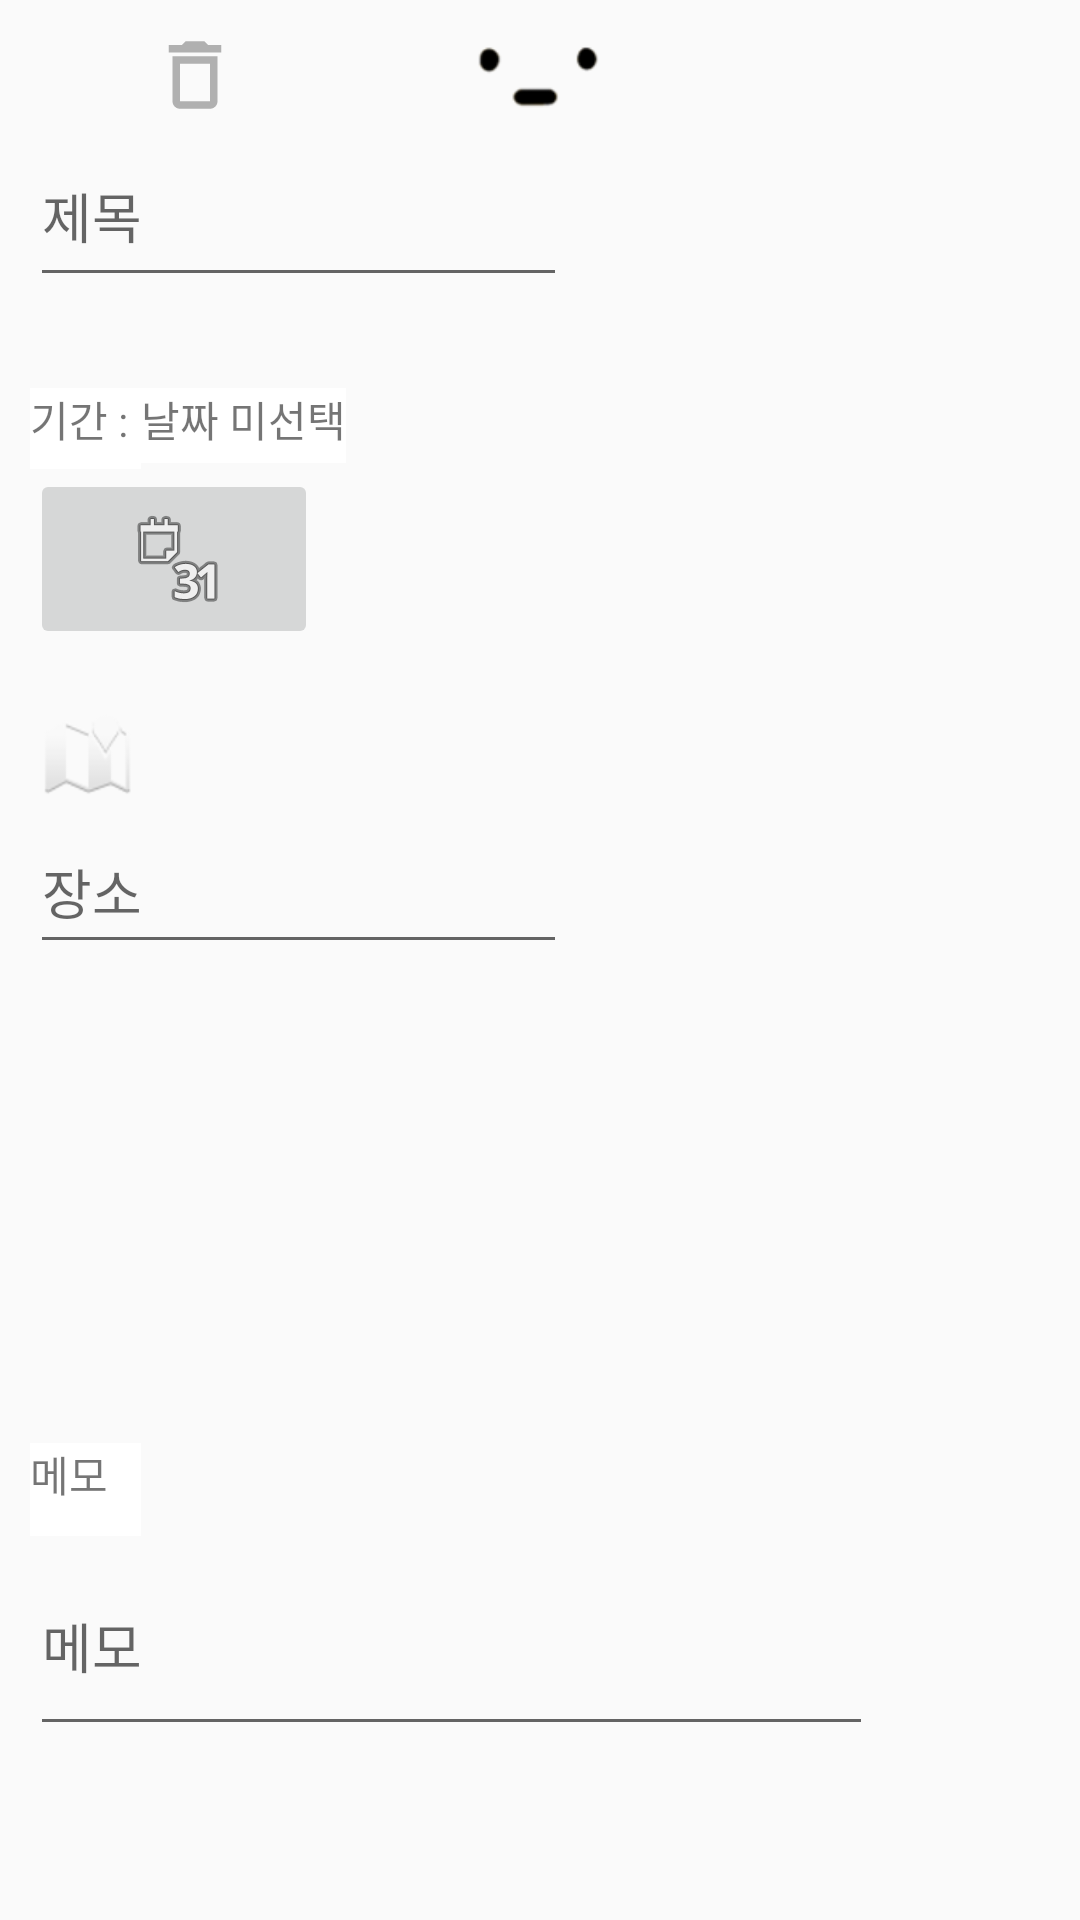

Where to tap for icons on this 1080px x 1920px app screen, as (x,y):
delete: (195,75)
map: (87,759)
month: (174,559)
